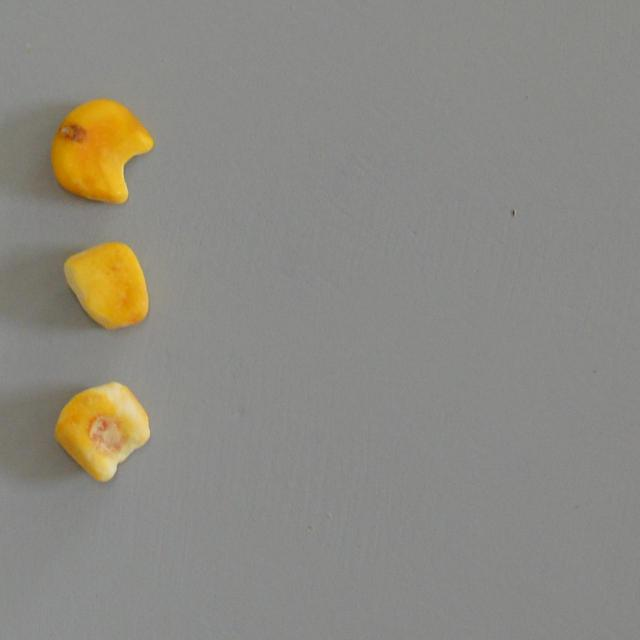dañado: (48, 98, 155, 206), (52, 380, 154, 482)
no_canjicado: (62, 241, 152, 331)
